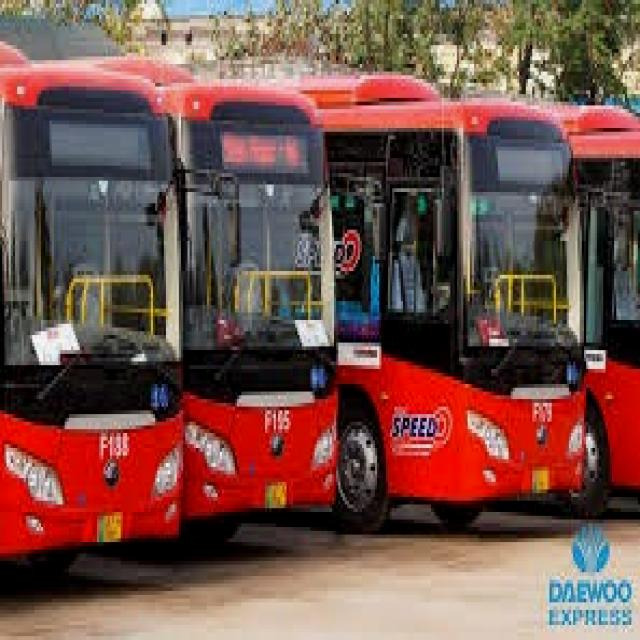bus: (324, 59, 597, 593), (1, 42, 186, 577), (168, 60, 347, 539)
